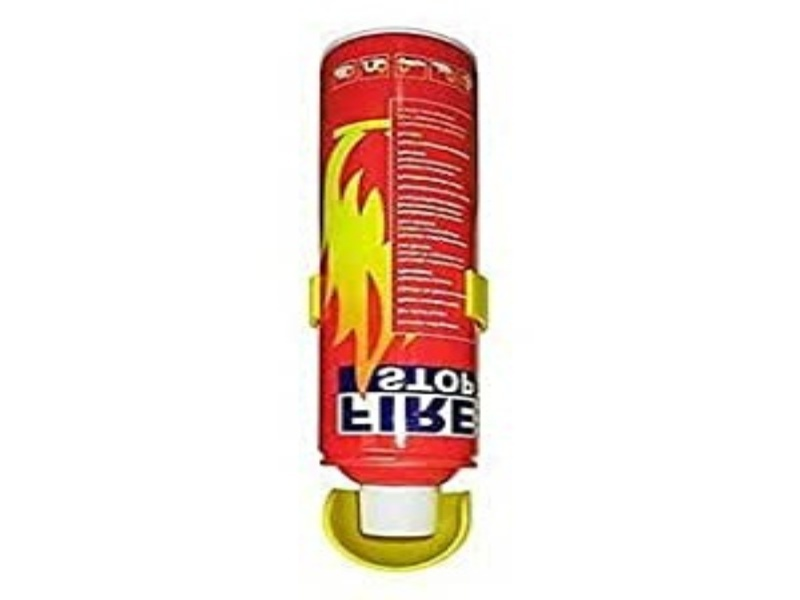fire_extinguisher: (304, 21, 493, 577)
